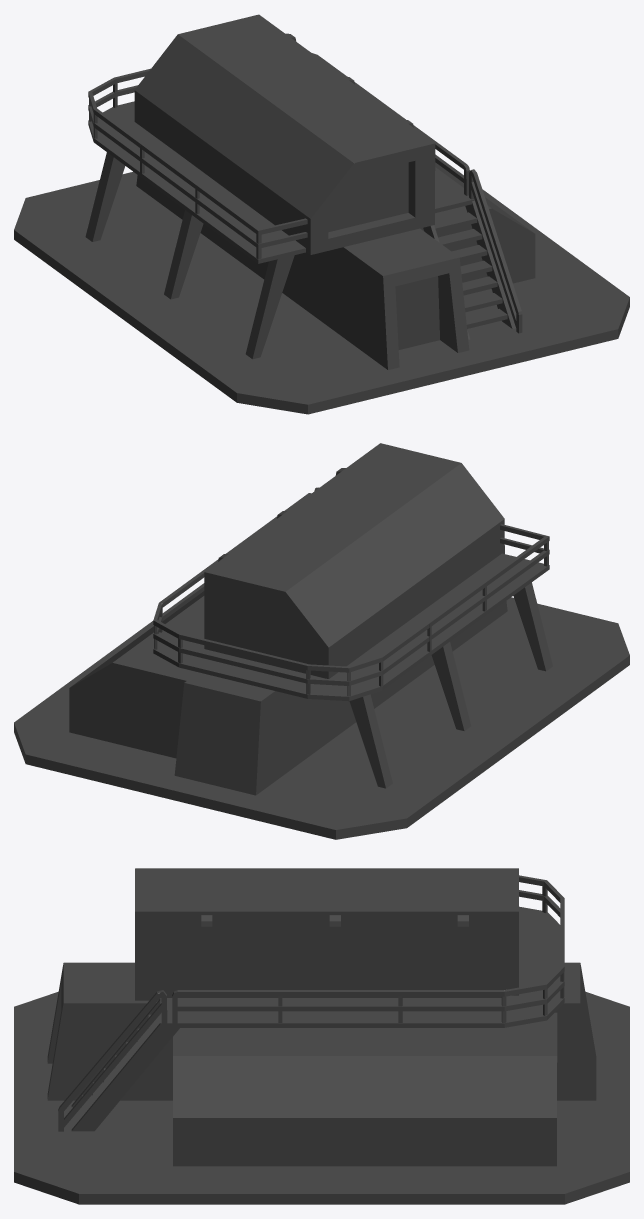
Rendered from Barracks.glb.
3 views of the same model, one above another, from view 1: azimuth 30°, elevation 25°; view 2: azimuth 150°, elevation 25°; view 3: azimuth 270°, elevation 25° (orthographic). The views are drawn at different scales.
Parts seen in each view (by area): view 1: Cube.002; view 2: Cube.002; view 3: Cube.002.
Part boxes in pixels (box(x1,y1,x2,y2)): Cube.002: box(14, 14, 629, 414); Cube.002: box(14, 443, 629, 839); Cube.002: box(14, 868, 629, 1204).
Size of the model in its own units: 10.1 by 4.57 by 12.57.
1 material, 1 textured.
